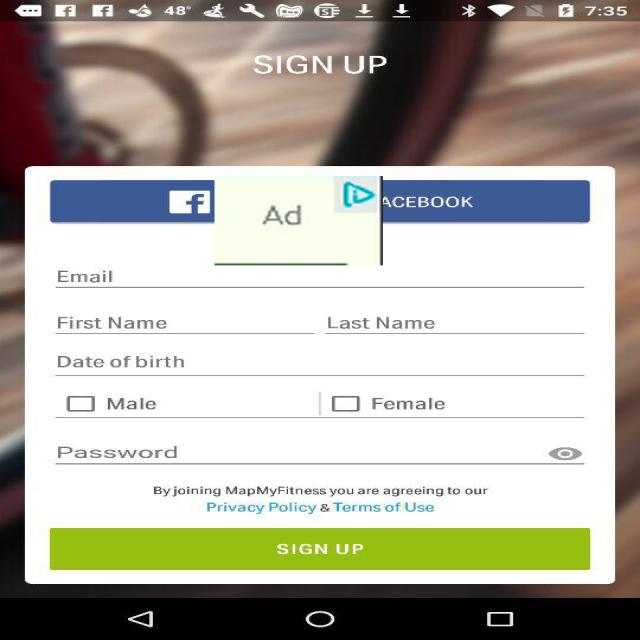sneaking: (214, 176, 383, 265)
